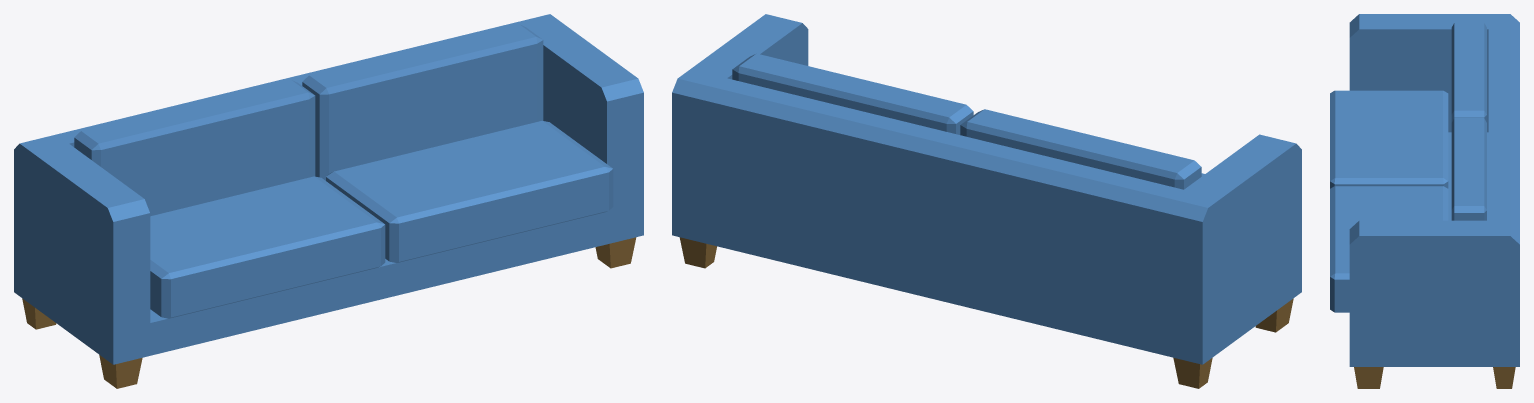
File: Sofa_1.FBX
3 renders of one model, left to right at view 1: azimuth 30°, elevation 25°; view 2: azimuth 150°, elevation 25°; view 3: azimuth 270°, elevation 25°, orthographic. The views are drawn at different scales.
Visible parts, largest first — view 1: Box001; view 2: Box001; view 3: Box001.
Boxes of the visible parts, x1=… form: Box001: x1=14, y1=14, x2=643, y2=388; Box001: x1=672, y1=14, x2=1301, y2=388; Box001: x1=1330, y1=14, x2=1519, y2=388.
Bounding box in the file's own units: 91.24 × 32 × 32.96.
1 material, 1 textured.
